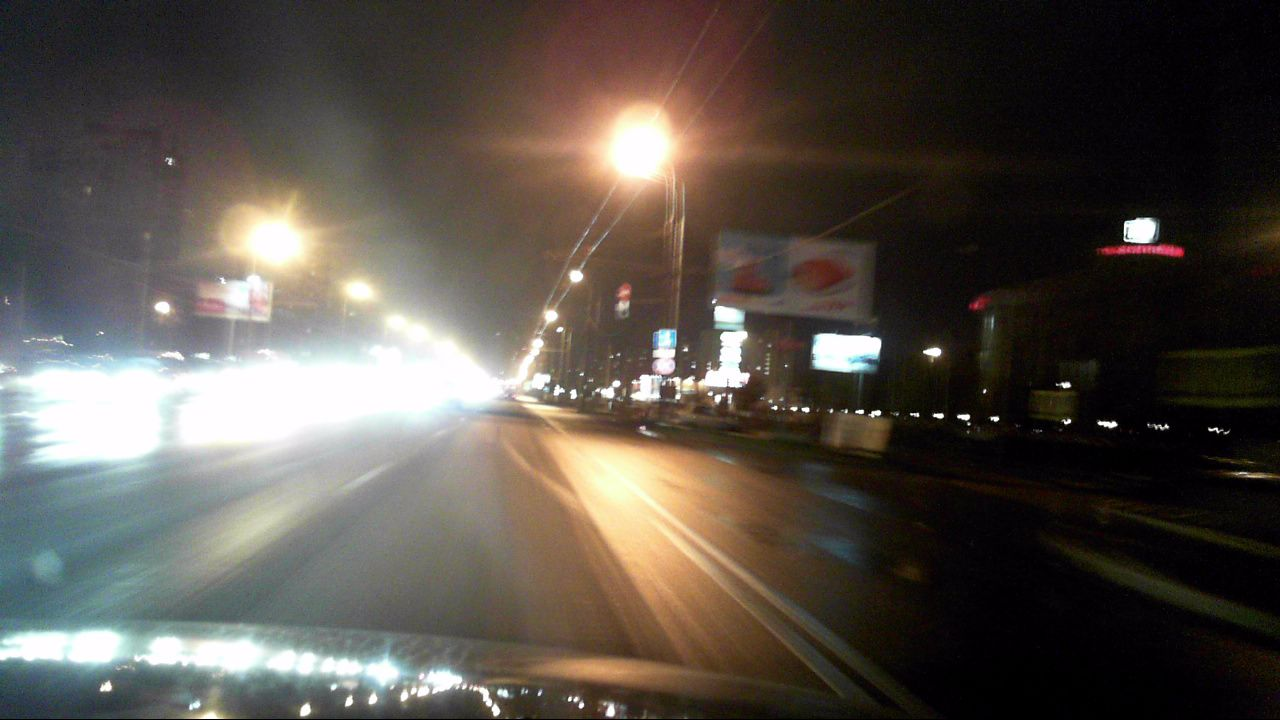No Parking: (657, 358, 675, 375)
